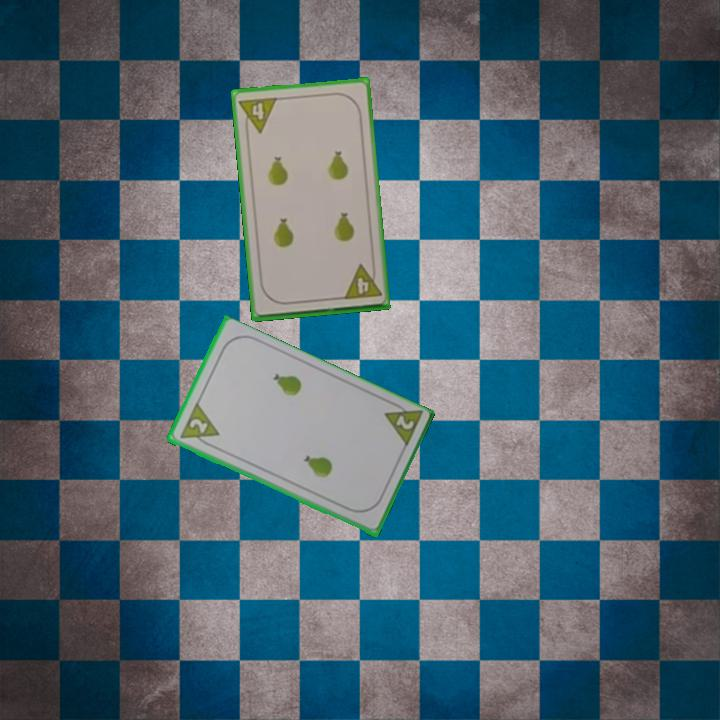2p: (380, 397, 425, 452), (176, 401, 222, 451)
4p: (235, 93, 280, 137), (340, 260, 384, 302)
